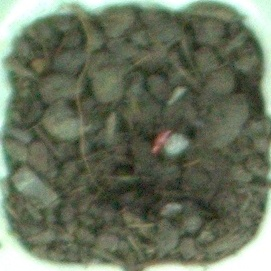pepper seed: (63, 49, 236, 205)
